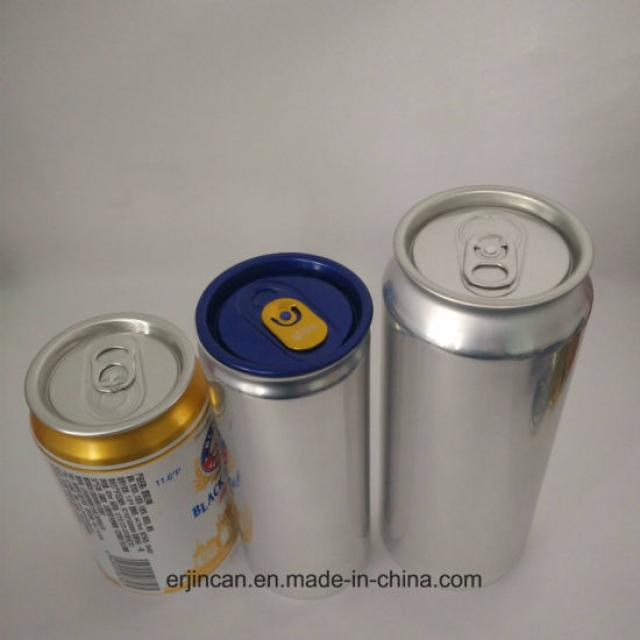non-organic waste: (383, 163, 594, 600), (175, 234, 394, 621), (24, 282, 236, 613)
